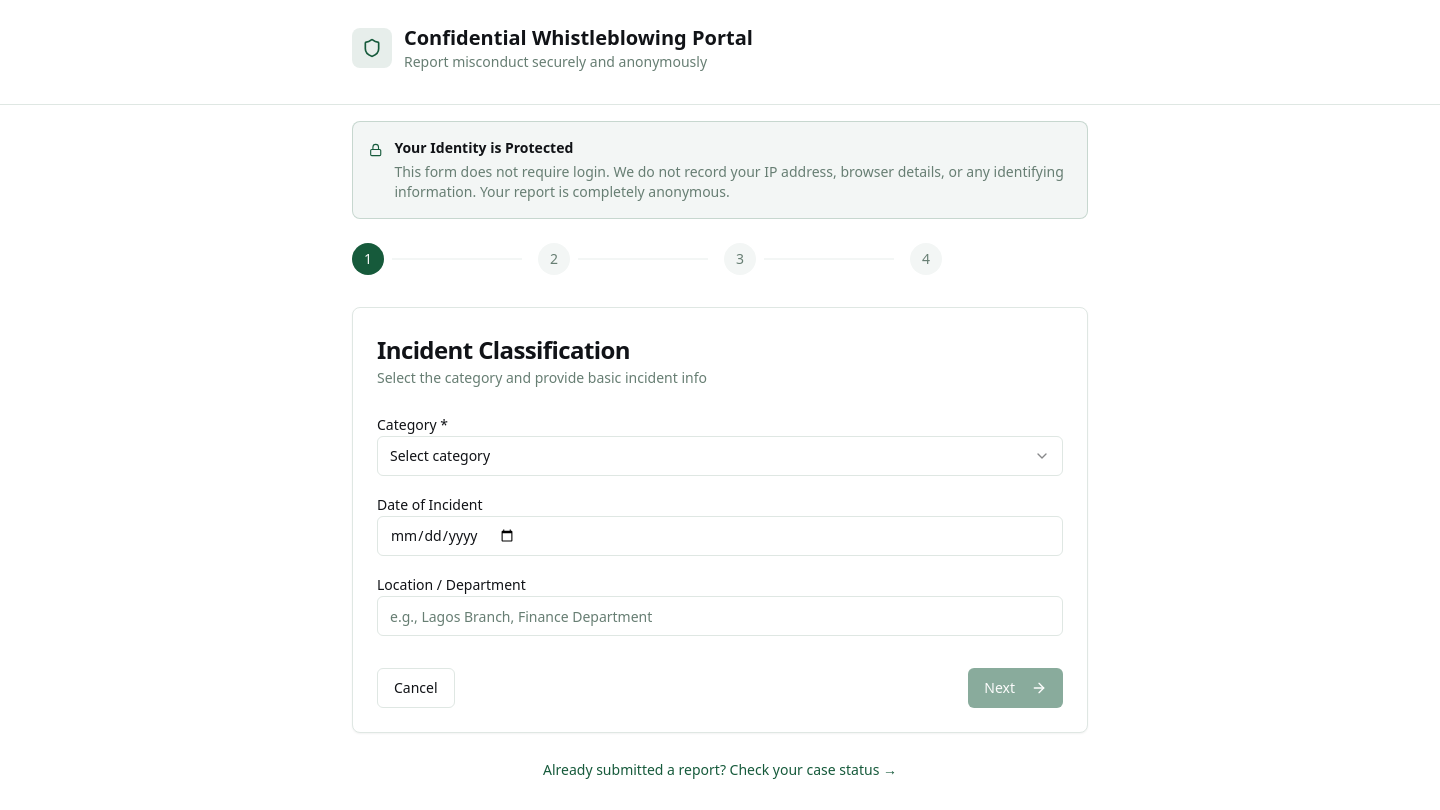
Scenario: WhistleblowSubmit page › blocks progress from step 1 until a category is chosen
Expected: the button "Next" is disabled, [968,668,1063,708]
Click the dropdown.
click(440, 456)  # box [377,436,1063,476]
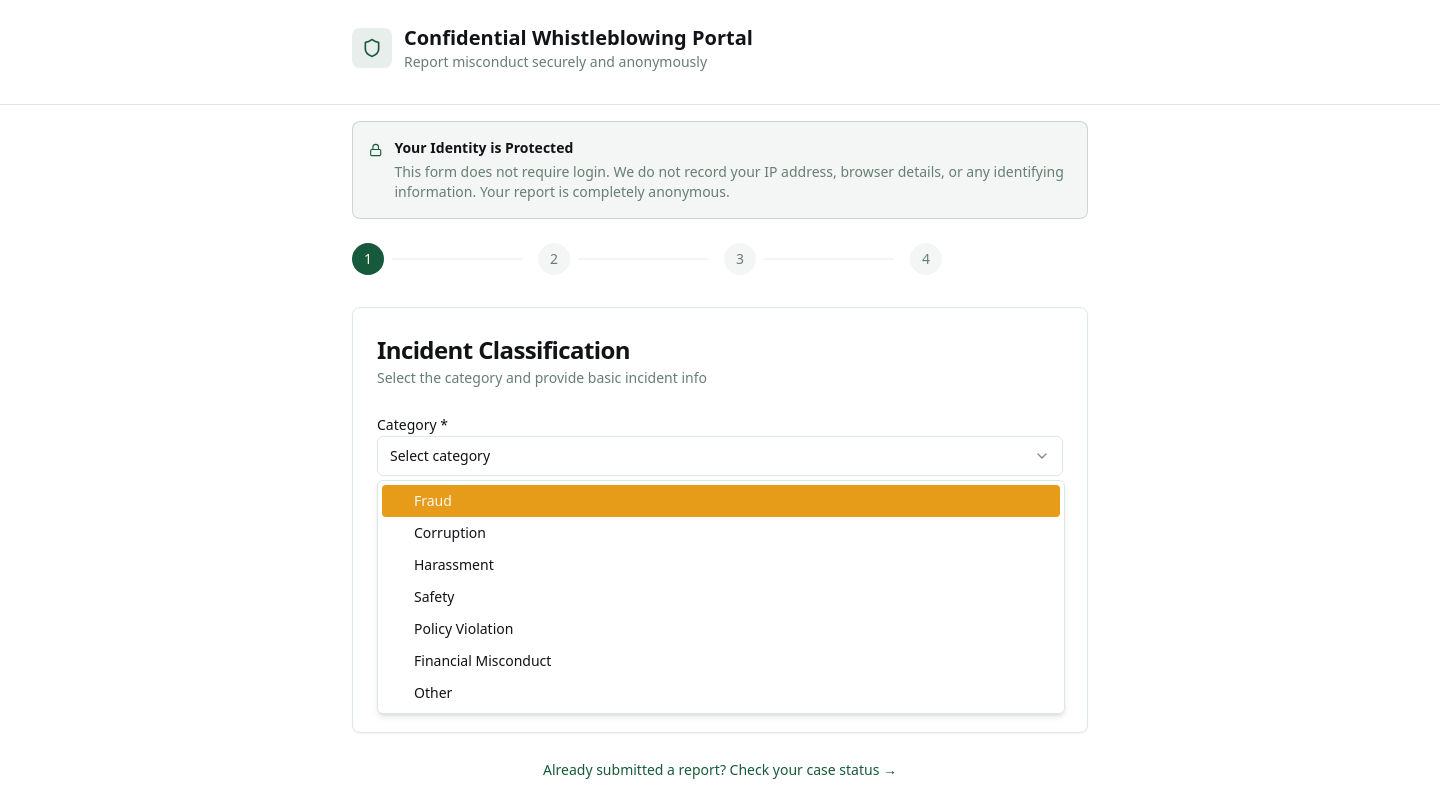
Click the option "Fraud".
click(433, 500)  # box [382,485,1060,517]
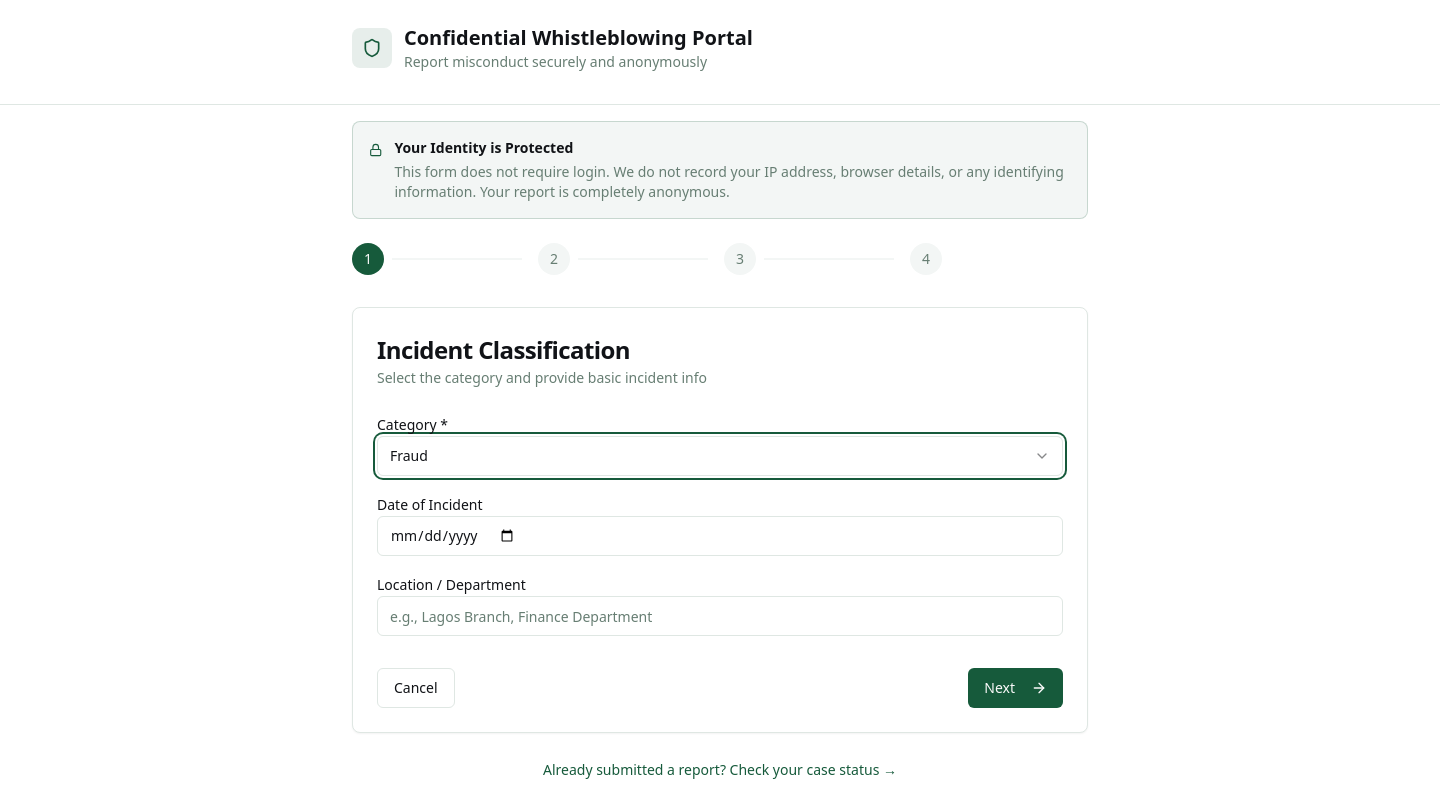
Expected: the button "Next" is enabled, [968,668,1063,708]
